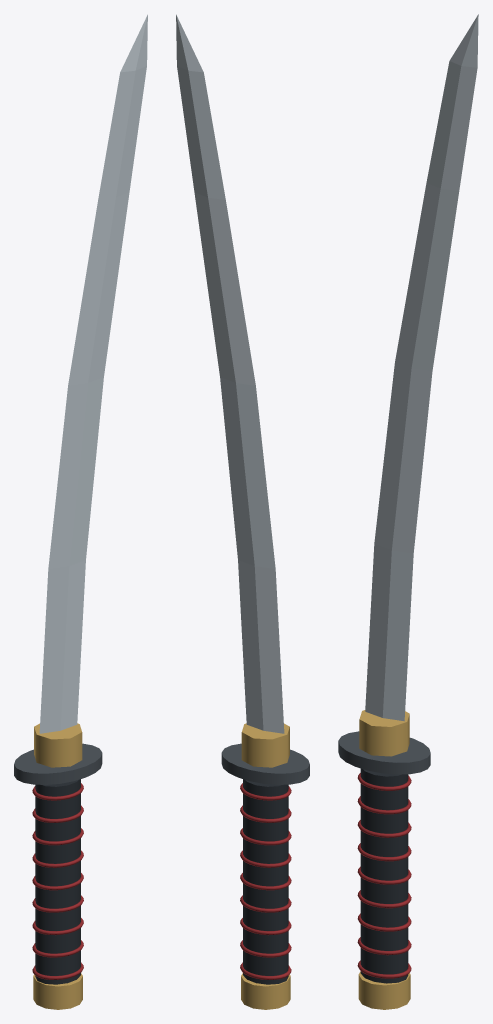
File: sword_katana.glb
3 views of the same model, side by side, from view 1: azimuth 30°, elevation 25°; view 2: azimuth 150°, elevation 25°; view 3: azimuth 330°, elevation 25° (orthographic). The views are drawn at different scales.
Parts seen in each view (by area): view 1: Curved katana blade, Wrapped katana grip, Oval tsuba, Blade collar, Pommel cap; view 2: Curved katana blade, Wrapped katana grip, Oval tsuba, Blade collar, Pommel cap; view 3: Curved katana blade, Wrapped katana grip, Oval tsuba, Blade collar, Pommel cap.
Boxes of the visible parts, x1,y1,x2,y2 form: Curved katana blade: (39, 14, 147, 733); Wrapped katana grip: (35, 779, 80, 984); Oval tsuba: (14, 743, 102, 784); Blade collar: (34, 723, 82, 767); Pommel cap: (33, 973, 82, 1009); Curved katana blade: (176, 14, 284, 733); Wrapped katana grip: (243, 779, 288, 984); Oval tsuba: (221, 743, 309, 784); Blade collar: (241, 723, 289, 767); Pommel cap: (241, 973, 290, 1009); Curved katana blade: (365, 14, 478, 721); Wrapped katana grip: (360, 768, 408, 983); Oval tsuba: (338, 731, 430, 774); Blade collar: (359, 710, 409, 756); Pommel cap: (358, 971, 410, 1009).
Bounding box in the file's own units: 0.146 × 1.03 × 0.0607.
